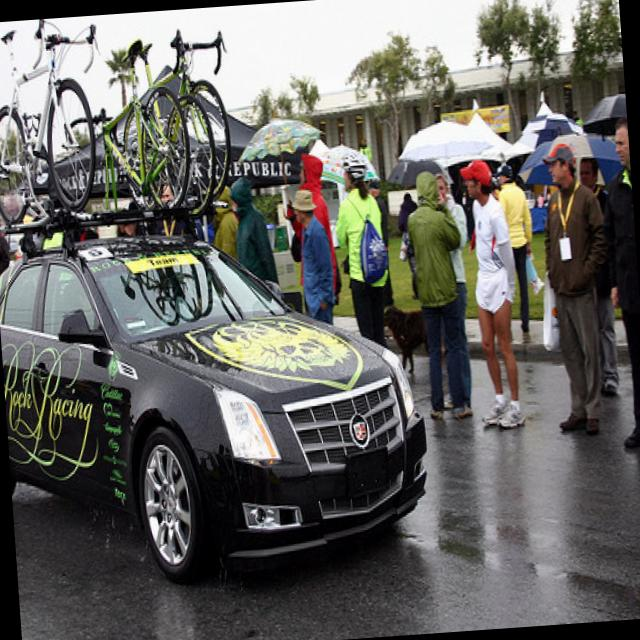Vehicle: (0, 214, 438, 601)
